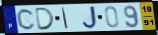0: (104, 5, 120, 29)
9: (123, 4, 141, 29)
C: (16, 8, 37, 31)
D: (35, 7, 57, 31)
I: (61, 7, 69, 30)
J: (81, 5, 98, 30)
